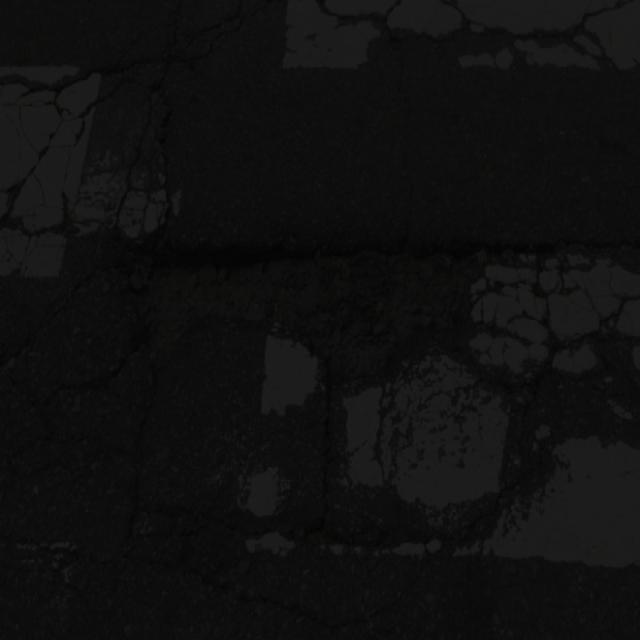pothole: (96, 221, 509, 366)
